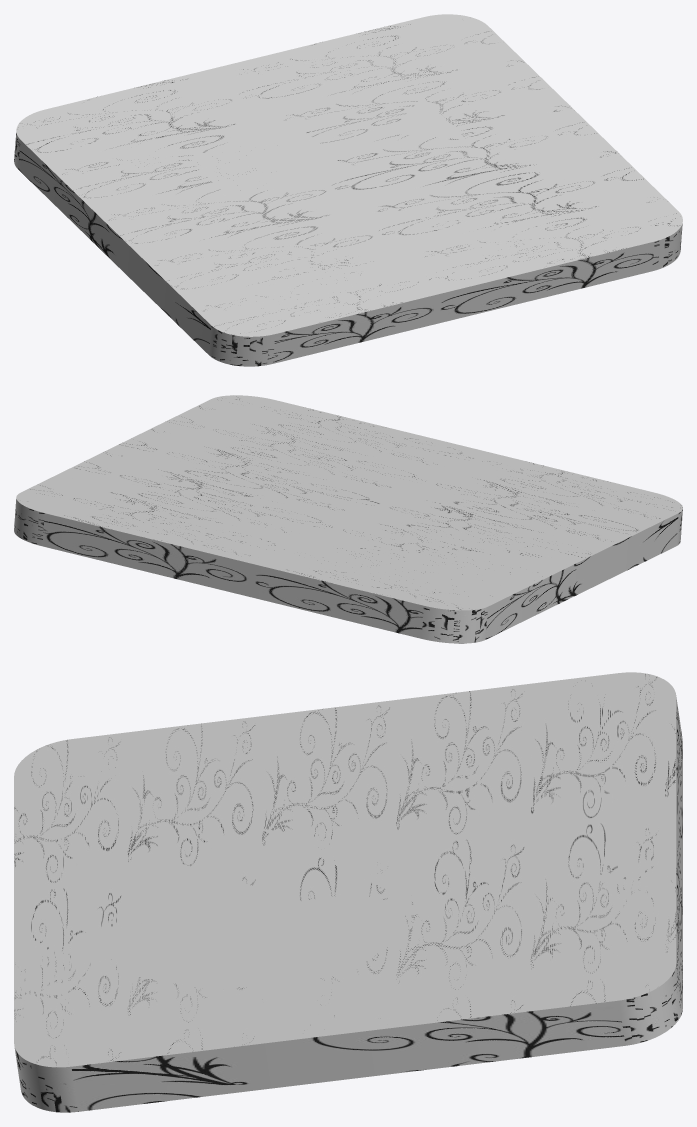
The model's file is original-58.obj.
3 renders of one model, top to bottom at view 1: azimuth 30°, elevation 25°; view 2: azimuth 150°, elevation 25°; view 3: azimuth 270°, elevation 25°, orthographic. The views are drawn at different scales.
Parts seen in each view (by area): view 1: mesh58/mesh58-geometry#mesh58-geometry; view 2: mesh58/mesh58-geometry#mesh58-geometry; view 3: mesh58/mesh58-geometry#mesh58-geometry.
Boxes of the visible parts, <box> form: mesh58/mesh58-geometry#mesh58-geometry: <box>14,14,682,366</box>; mesh58/mesh58-geometry#mesh58-geometry: <box>14,395,682,643</box>; mesh58/mesh58-geometry#mesh58-geometry: <box>14,672,682,1112</box>.
Size of the model in its own units: 0.1126 by 0.0201 by 0.0971.
